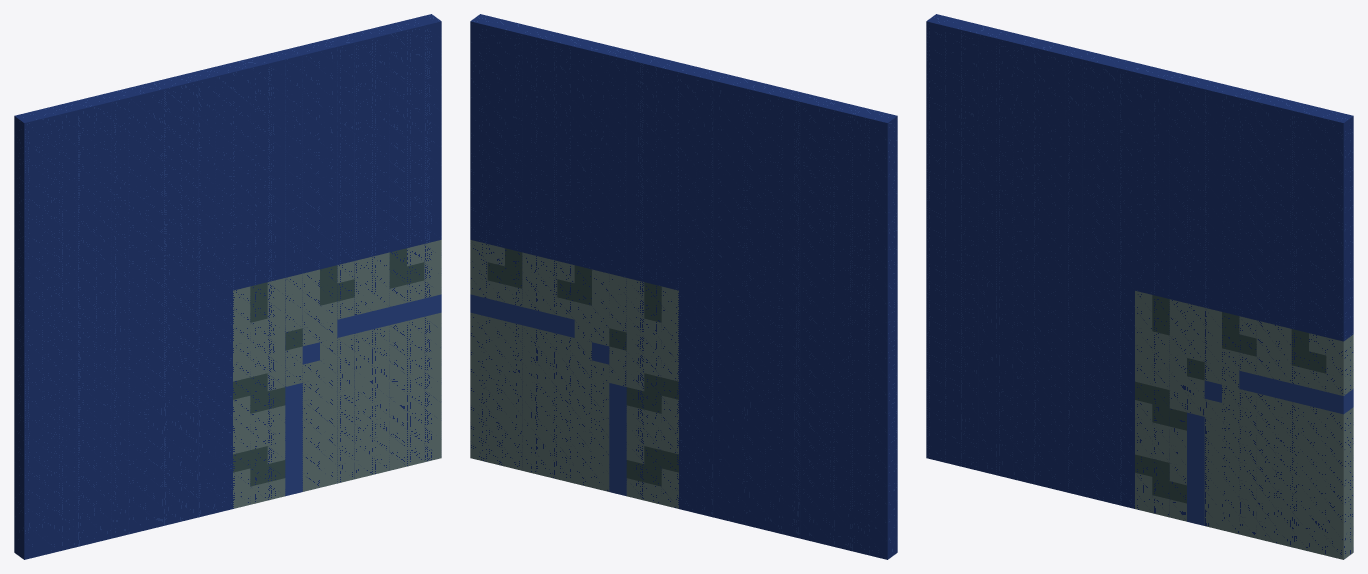
The picture shows the model from 3 angles, left to right: view 1: azimuth 30°, elevation 25°; view 2: azimuth 150°, elevation 25°; view 3: azimuth 330°, elevation 25°; orthographic projection.
Bounding box in the file's own units: 2.4 × 2.4 × 0.1.
